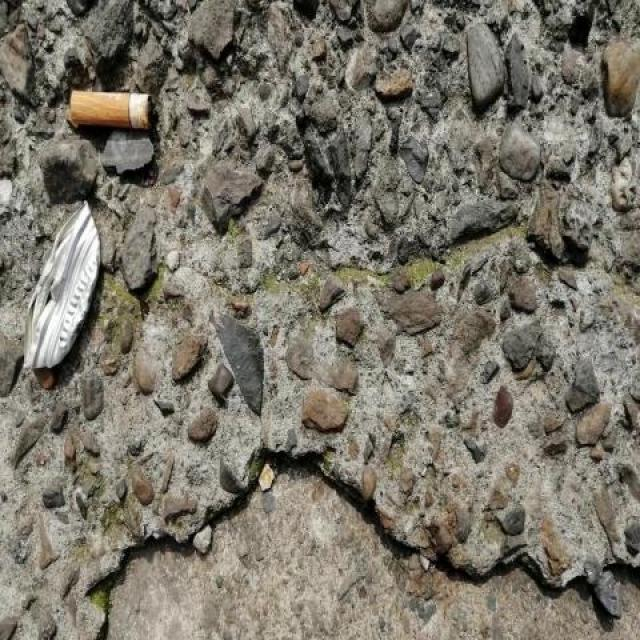non-organic waste: (67, 85, 162, 136)
